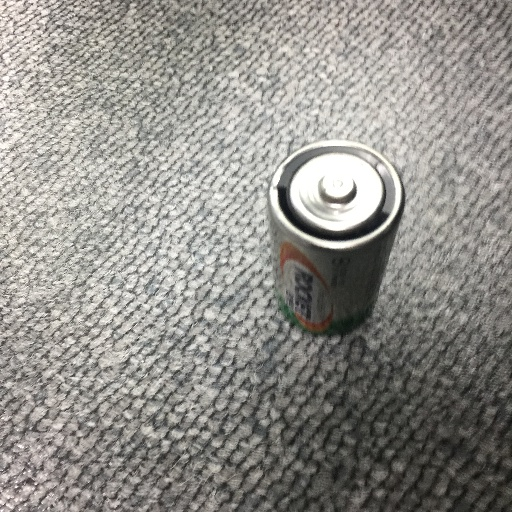Battery_0: (251, 128, 421, 362)
